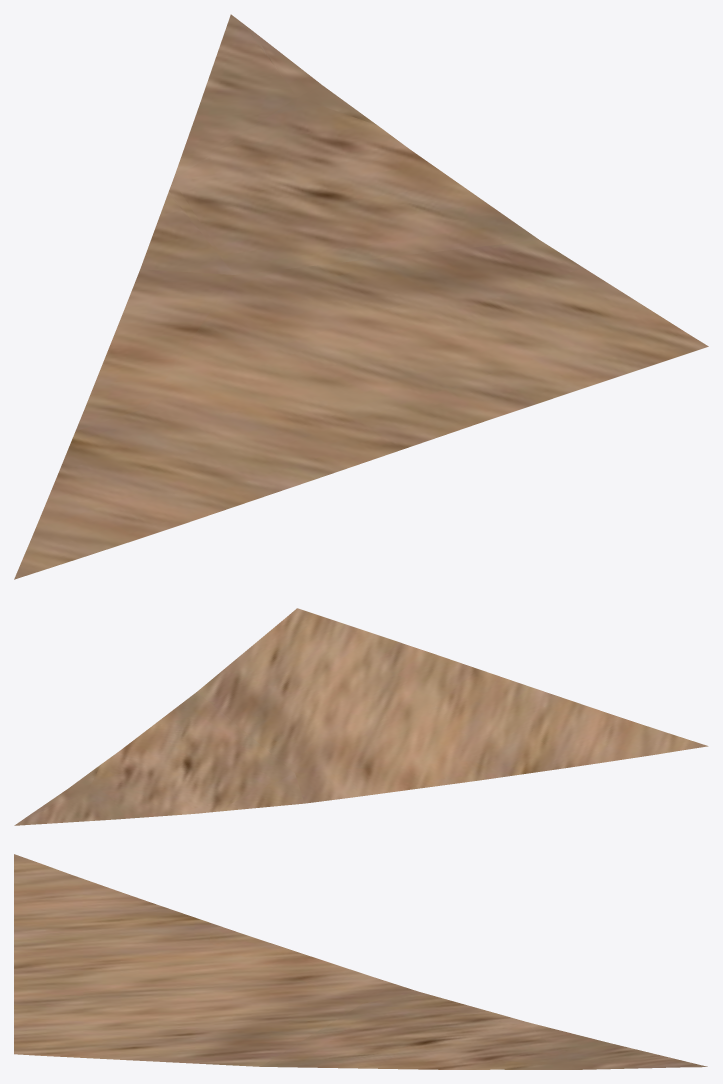
3 views of the same model, one above another, from view 1: azimuth 30°, elevation 25°; view 2: azimuth 150°, elevation 25°; view 3: azimuth 270°, elevation 25° (orthographic). The views are drawn at different scales.
Bounding box in the file's own units: 2 × 0.1762 × 2.38.
Materials: 1 (1 with a texture image).
